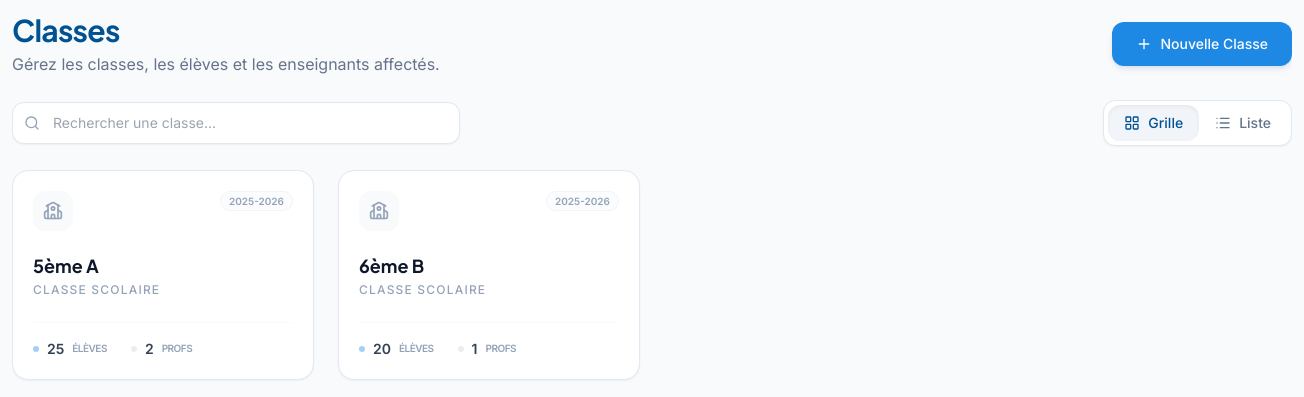
Test: ClassListScreen › renders list view with Gérer button
Expected: the heading "5ème A" is shown, [33,254,99,277]
Click the button "Liste": x=1243, y=123 [1199,105,1287,141]
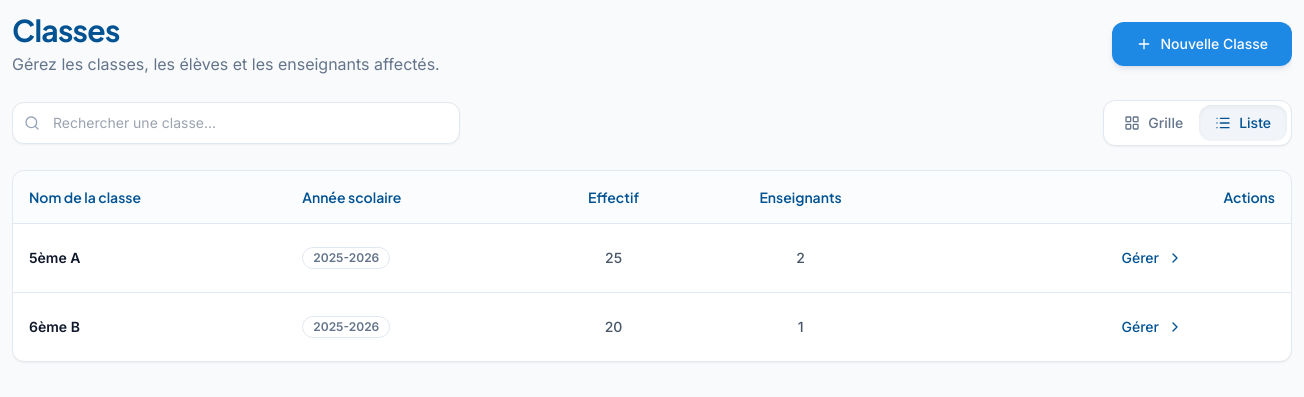
Expected: the text "5ème A" is shown, [13,224,286,292]
Expected: the text "Gérer" in the row of "5ème A" is shown, [1122,249,1159,266]
